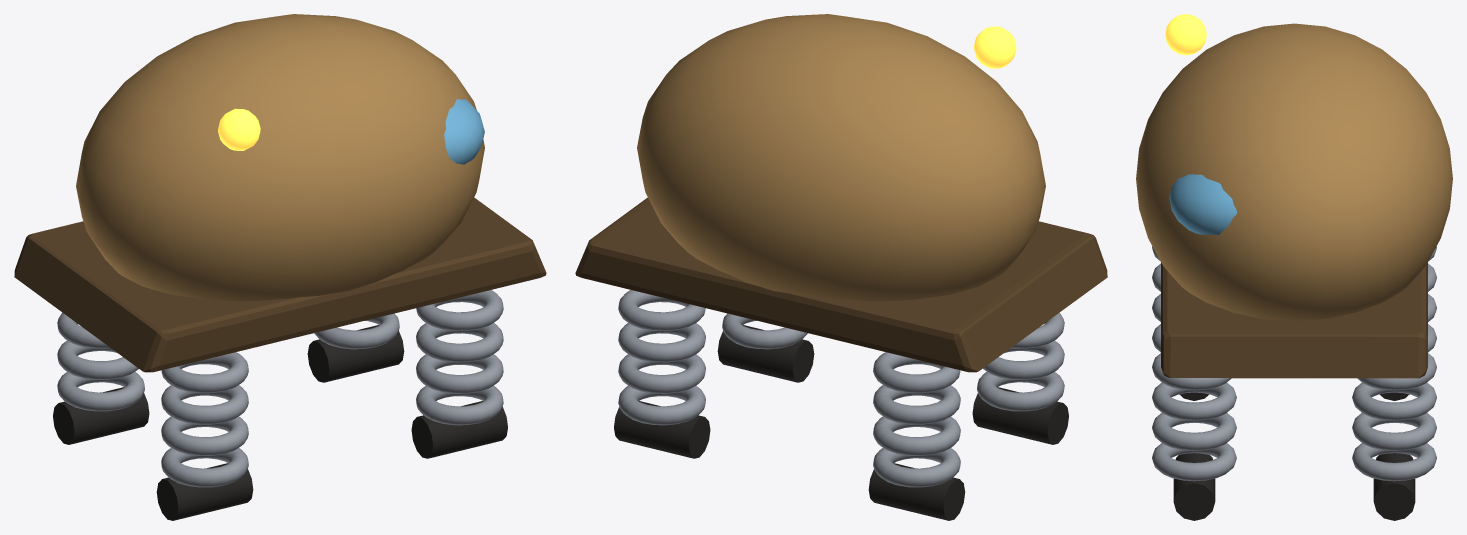
Rendered from jumper_l.glb.
3 views of the same model, side by side, from view 1: azimuth 30°, elevation 25°; view 2: azimuth 150°, elevation 25°; view 3: azimuth 270°, elevation 25° (orthographic). The views are drawn at different scales.
Parts seen in each view (by area): view 1: dome, frame, foot.003, foot.002, foot.001, foot, coil, coil.008, coil.004, coil.002, coil.010, coil.001 (+8 smaller); view 2: dome, frame, foot.002, foot.003, foot, foot.001, coil.004, coil.012, coil, coil.006, coil.014, coil.005 (+7 smaller); view 3: dome, frame, visor, coil.008, coil.012, coil.009, coil.010, coil.013, coil.014, foot.002, foot.003, lamp (+2 smaller).
Part boxes in pixels (left/top/right/bottom): dome: left=76, top=14, right=484, bottom=301; frame: left=14, top=197, right=546, bottom=372; foot.003: left=307, top=325, right=404, bottom=382; foot.002: left=411, top=401, right=507, bottom=458; foot.001: left=53, top=387, right=149, bottom=444; foot: left=156, top=463, right=253, bottom=520; coil: left=161, top=448, right=248, bottom=487; coil.008: left=416, top=385, right=503, bottom=425; coil.004: left=57, top=372, right=144, bottom=411; coil.002: left=161, top=385, right=248, bottom=424; coil.010: left=416, top=323, right=503, bottom=362; coil.001: left=161, top=416, right=248, bottom=455; dome: left=637, top=14, right=1045, bottom=301; frame: left=575, top=197, right=1107, bottom=372; foot.002: left=717, top=325, right=814, bottom=382; foot.003: left=614, top=401, right=710, bottom=458; foot: left=972, top=387, right=1068, bottom=444; foot.001: left=868, top=463, right=965, bottom=520; coil.004: left=873, top=448, right=960, bottom=487; coil.012: left=618, top=385, right=705, bottom=425; coil: left=977, top=372, right=1064, bottom=411; coil.006: left=873, top=385, right=960, bottom=424; coil.014: left=618, top=323, right=705, bottom=362; coil.005: left=873, top=416, right=960, bottom=455; dome: left=1136, top=23, right=1452, bottom=321; frame: left=1161, top=262, right=1427, bottom=378; visor: left=1169, top=174, right=1237, bottom=234; coil.008: left=1152, top=443, right=1236, bottom=481; coil.012: left=1352, top=443, right=1436, bottom=481; coil.009: left=1152, top=413, right=1236, bottom=450; coil.010: left=1152, top=382, right=1236, bottom=420; coil.013: left=1352, top=413, right=1436, bottom=450; coil.014: left=1352, top=382, right=1436, bottom=420; foot.002: left=1173, top=453, right=1215, bottom=520; foot.003: left=1373, top=453, right=1415, bottom=520; lamp: left=1165, top=14, right=1206, bottom=55.
Size of the model in its own units: 10.77 by 10.4 by 7.6.
